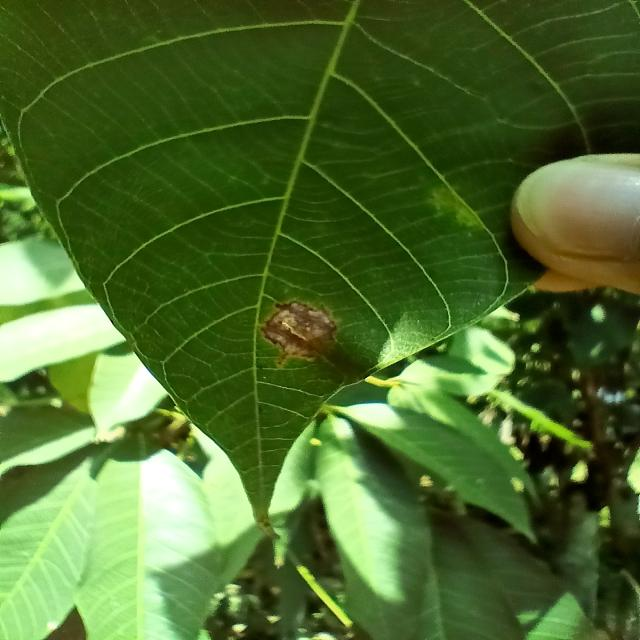Leaf-Blight: (262, 300, 336, 360)
